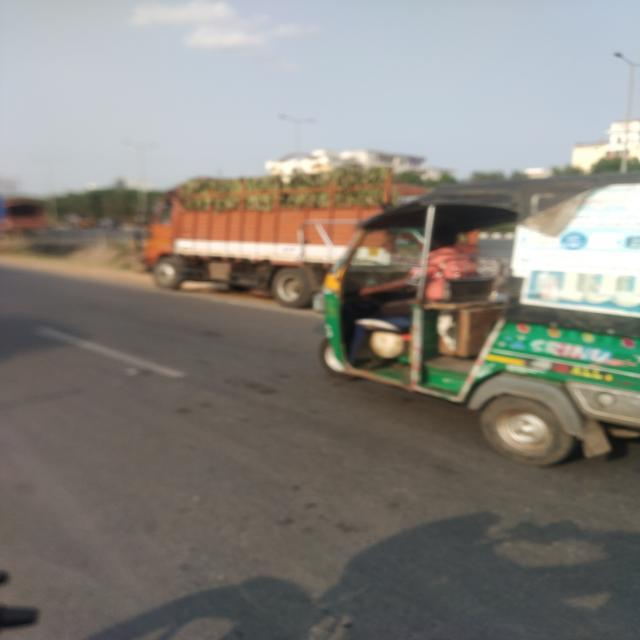auto_back: (315, 171, 640, 470)
truck_back: (136, 179, 390, 314)
